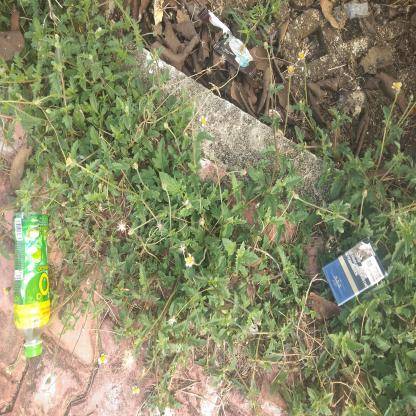trash: (10, 205, 56, 368), (195, 5, 266, 92), (317, 233, 391, 314)
